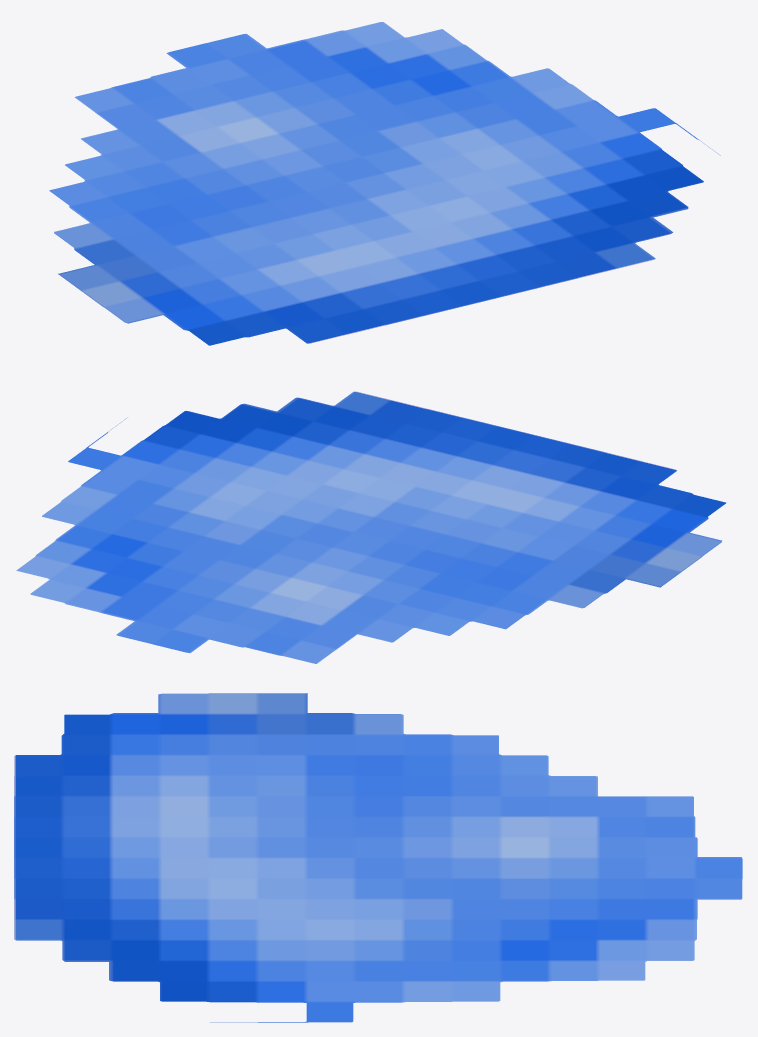
File: Water.fbx
3 renders of one model, top to bottom at view 1: azimuth 30°, elevation 25°; view 2: azimuth 150°, elevation 25°; view 3: azimuth 270°, elevation 25°, orthographic. The views are drawn at different scales.
Visible parts, largest first — view 1: pPlane3; view 2: pPlane3; view 3: pPlane3.
Boxes of the visible parts, box(x1,y1,x2,y2) form: pPlane3: box(49, 22, 720, 345); pPlane3: box(16, 391, 726, 663); pPlane3: box(14, 693, 742, 1022).
Bounding box in the file's own units: 1 × 0 × 0.9375.
